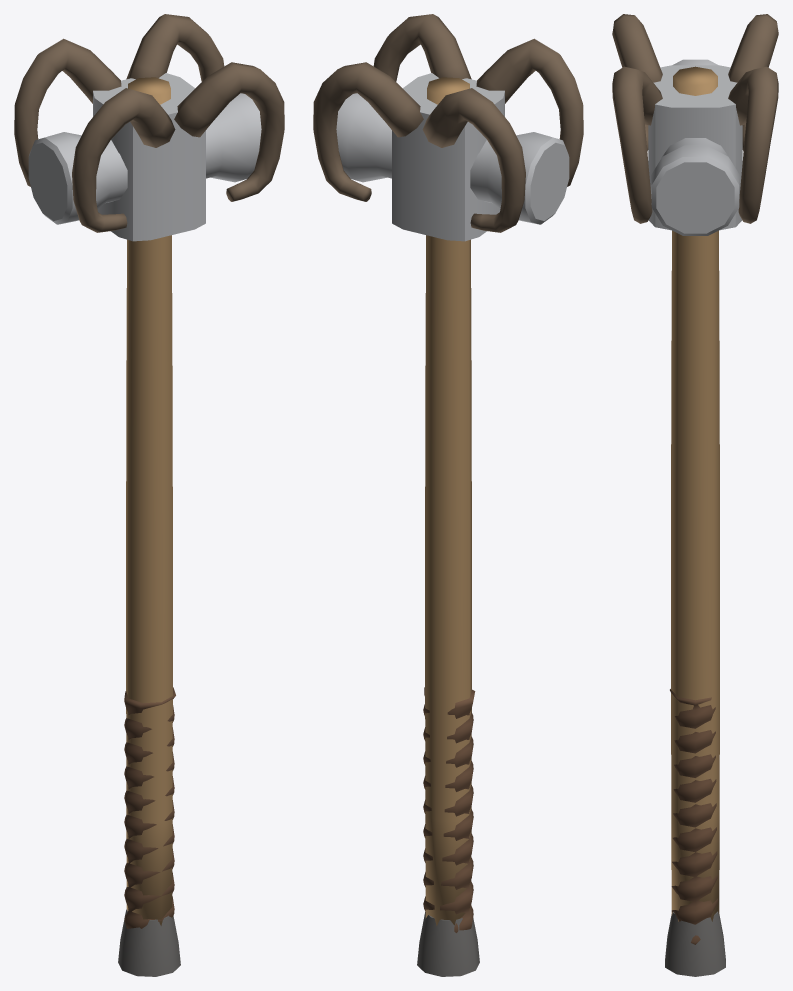
The model's file is dwarven-ram-hammer.glb.
The picture shows the model from 3 angles, left to right: view 1: azimuth 30°, elevation 25°; view 2: azimuth 150°, elevation 25°; view 3: azimuth 270°, elevation 25°; orthographic projection.
Parts seen in each view (by area): view 1: dwarven-ram-hammer; view 2: dwarven-ram-hammer; view 3: dwarven-ram-hammer.
Part boxes in pixels (bbox=[...]): dwarven-ram-hammer: bbox=[14, 14, 284, 976]; dwarven-ram-hammer: bbox=[313, 14, 583, 976]; dwarven-ram-hammer: bbox=[612, 14, 778, 976].
Size of the model in its own units: 0.4347 by 1.81 by 0.2954.
